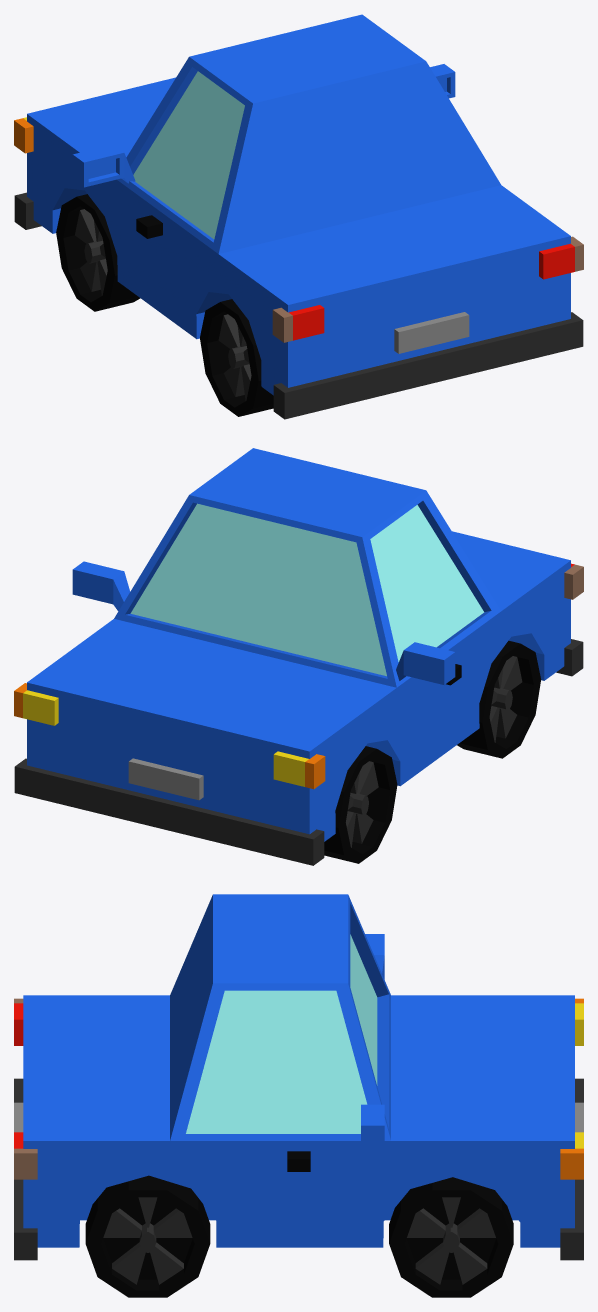
Rendered from ObsticleCar_1.fbx.
The picture shows the model from 3 angles, top to bottom: view 1: azimuth 30°, elevation 25°; view 2: azimuth 150°, elevation 25°; view 3: azimuth 270°, elevation 25°; orthographic projection. The views are drawn at different scales.
Parts seen in each view (by area): view 1: Cube.005; view 2: Cube.005; view 3: Cube.005.
Boxes of the visible parts, x1,y1,x2,y2 form: Cube.005: [14, 14, 583, 419]; Cube.005: [14, 448, 583, 865]; Cube.005: [14, 894, 583, 1297].
Size of the model in its own units: 328 by 229 by 413.
1 material, 1 textured.
